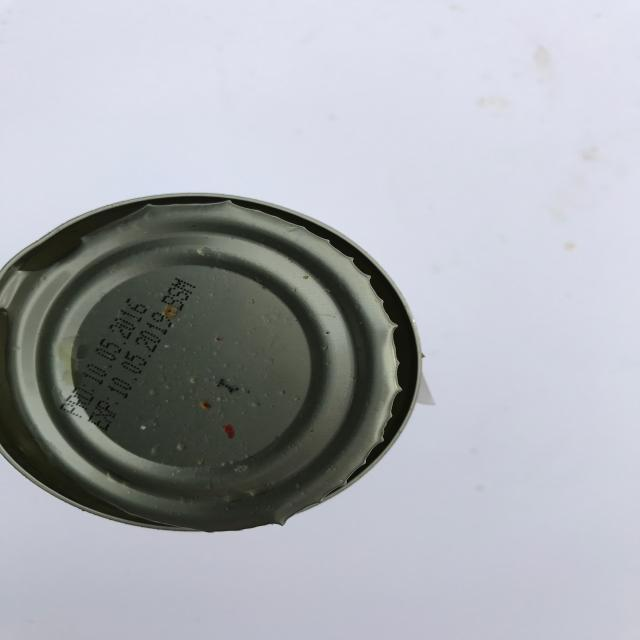metal: (1, 192, 424, 532)
